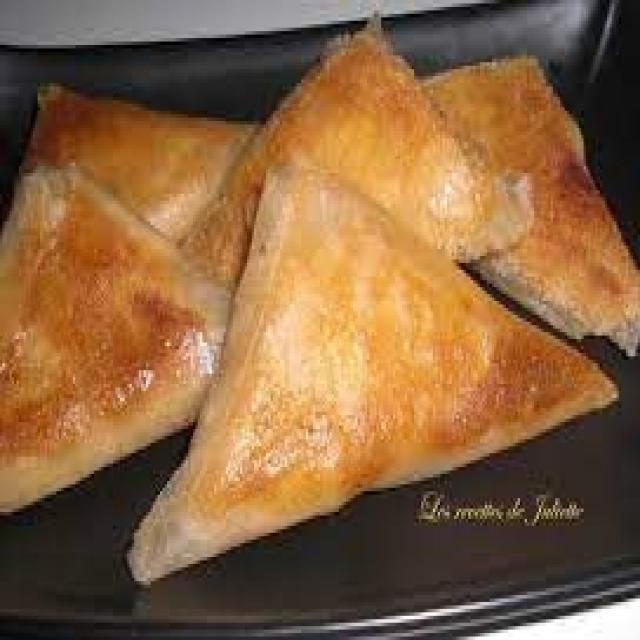brik: (136, 183, 581, 593), (0, 145, 216, 502)
